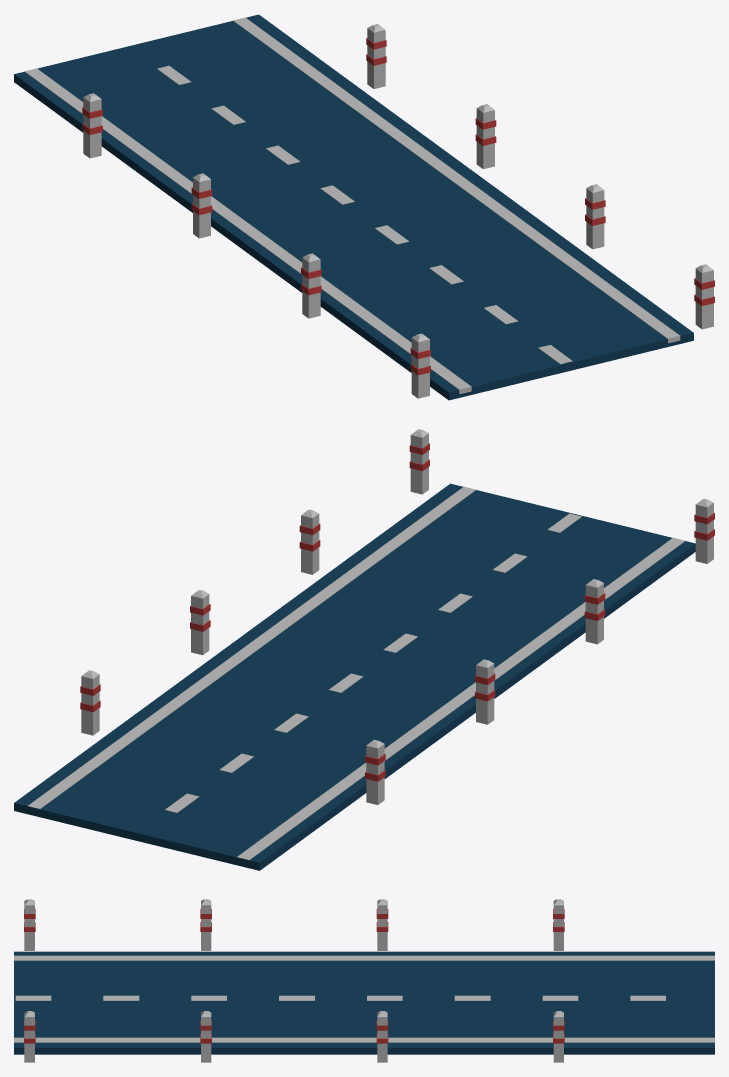
The model's file is CUPIC_ROAD.gltf.
The picture shows the model from 3 angles, top to bottom: view 1: azimuth 30°, elevation 25°; view 2: azimuth 150°, elevation 25°; view 3: azimuth 270°, elevation 25°; orthographic projection. The views are drawn at different scales.
Parts seen in each view (by area): view 1: node-0; view 2: node-0; view 3: node-0.
Part boxes in pixels (x1=…): node-0: x1=14, y1=14, x2=714, y2=400; node-0: x1=14, y1=429, x2=714, y2=870; node-0: x1=14, y1=899, x2=714, y2=1062.
Size of the model in its own units: 368 by 74.43 by 934.
1 material, 1 textured.
